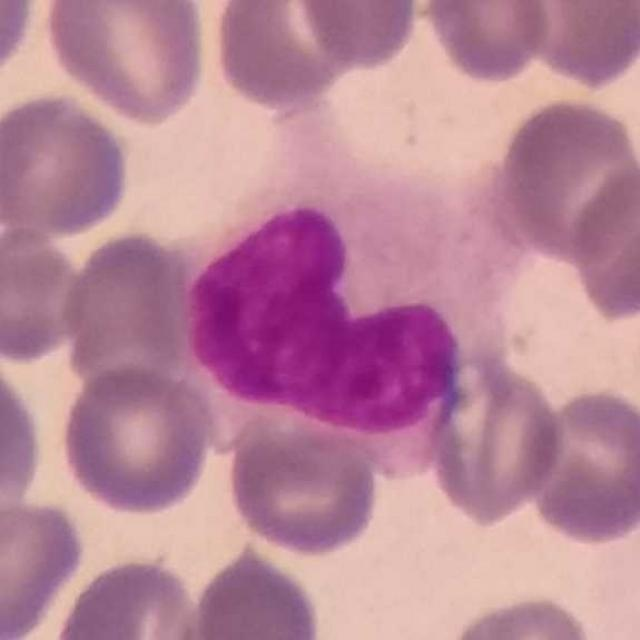Monocyte: (185, 132, 525, 464)
RBC: (55, 361, 218, 518), (423, 355, 569, 528), (495, 92, 640, 265), (222, 408, 385, 560), (57, 226, 199, 391), (39, 0, 213, 127), (0, 88, 136, 244), (522, 383, 640, 548), (204, 0, 370, 111), (180, 543, 328, 640), (50, 553, 208, 640), (0, 222, 89, 366), (0, 495, 88, 640), (566, 157, 640, 321), (418, 0, 556, 87), (510, 0, 640, 91), (293, 0, 425, 75), (0, 348, 47, 526), (441, 590, 599, 640), (0, 0, 42, 89)
